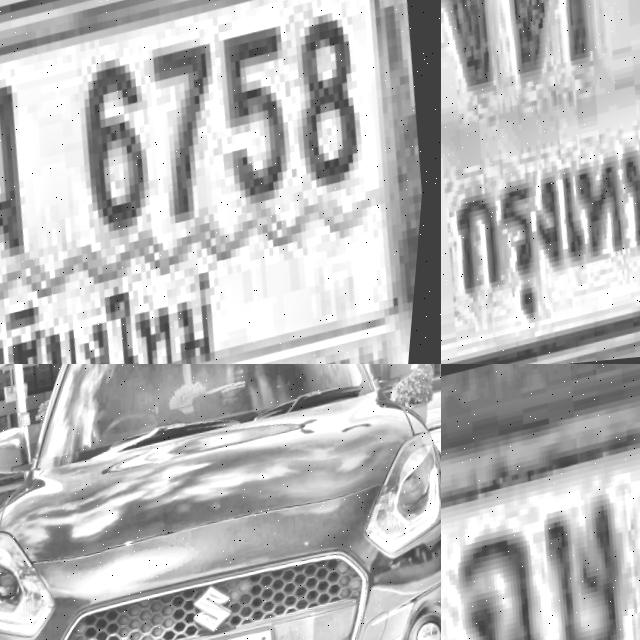license-plate: (0, 0, 441, 364), (441, 0, 640, 364), (441, 364, 640, 640)
